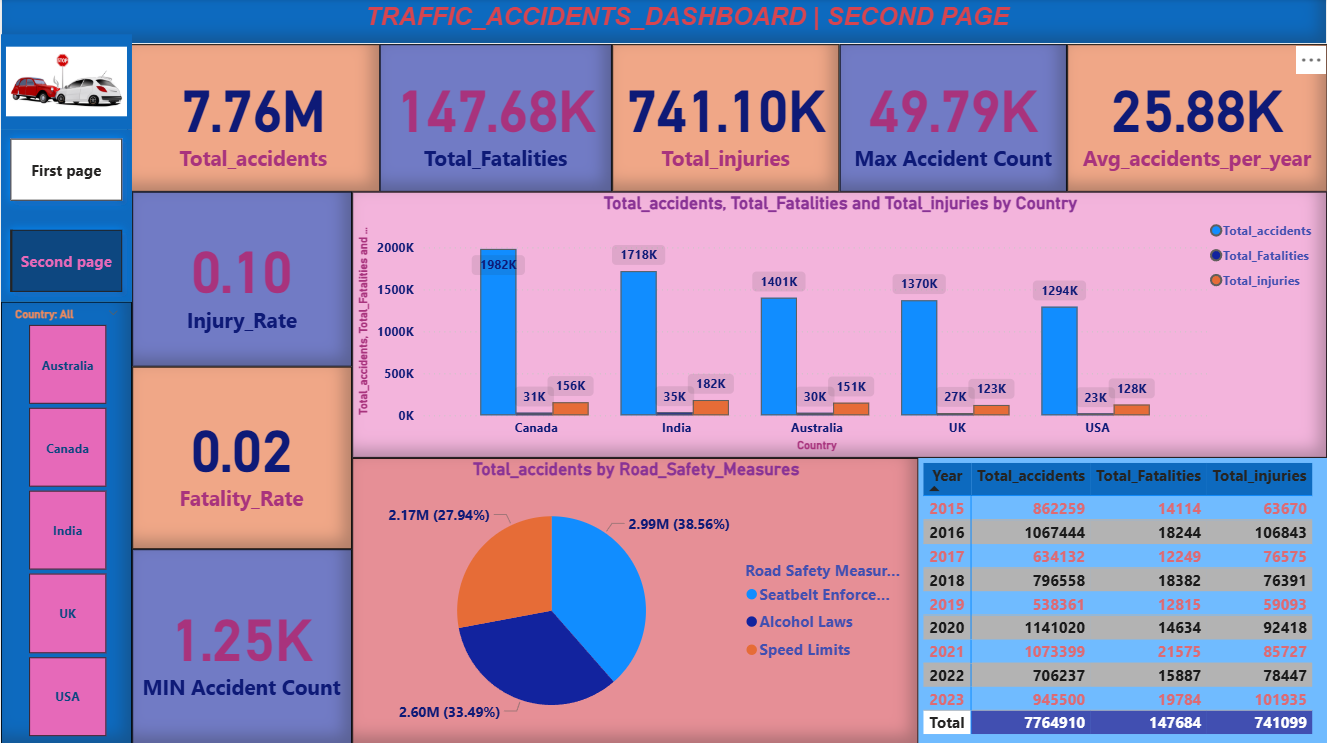

Layout of this report page (visuals, bound fields, positions):
{"tool":"powerbi","page":{"name":"Second page","canvas":[1280,720],"ordinal":1},"visuals":[{"type":"card","fields":{"Values":["traffic_accidents.Total_accidents"]},"box":[121.9,44.6,243.7,142.4],"z":0},{"type":"card","fields":{"Values":["traffic_accidents.Total_Fatalities"]},"box":[365.6,44.6,224.4,142.4],"z":1000},{"type":"card","fields":{"Values":["traffic_accidents.Total_injuries"]},"box":[589.9,44.6,219.6,142.4],"z":2000},{"type":"card","fields":{"Values":["traffic_accidents.Injury_Rate"]},"box":[126.7,187,212.3,168.9],"z":3000},{"type":"card","fields":{"Values":["traffic_accidents.Fatality_Rate"]},"box":[126.8,355.8,211.7,176],"z":4000},{"type":"card","fields":{"Values":["traffic_accidents.Avg_accidents_per_year"]},"box":[1029.1,44.6,250.9,142.4],"z":5000},{"type":"card","fields":{"Values":["traffic_accidents.Max Accident Count"]},"box":[809.5,44.6,219.6,142.4],"z":6000},{"type":"card","fields":{"Values":["traffic_accidents.MIN Accident Count"]},"box":[126.8,531.8,211.7,188.3],"z":7000},{"type":"textbox","box":[0,0,1280.3,44.3],"z":8000},{"type":"clusteredColumnChart","fields":{"Category":["traffic_accidents.Country"],"Y":["traffic_accidents.Total_accidents","traffic_accidents.Total_Fatalities","traffic_accidents.Total_injuries"]},"box":[339,187,941,257],"z":9000},{"type":"pieChart","title":"Total_accidents by Road_Safety_Measures","fields":{"Category":["traffic_accidents.Road Safety Measures"],"Y":["traffic_accidents.Total_accidents"]},"box":[339,444,546.5,276.3],"z":10000},{"type":"pivotTable","fields":{"Rows":["traffic_accidents.Year"],"Values":["traffic_accidents.Total_accidents","traffic_accidents.Total_Fatalities","traffic_accidents.Total_injuries"]},"box":[885.5,444,394.5,276.3],"z":11000},{"type":"slicer","fields":{"Values":["traffic_accidents.Country"]},"box":[0,293.2,126.7,427.1],"z":12000},{"type":"pageNavigator","box":[0,126.7,126.7,166.5],"z":13000},{"type":"image","box":[0,35,126.7,91.7],"z":14000}]}

Visuals, with their boxes on the page's 1280x720 design canvas (x1, y1, x2, y2). These are canvas units, not pixel positions in the 1327x743 screenshot, which may show the page scaled, cropped or inside an application window:
card - traffic_accidents.Total_accidents: region(122, 45, 366, 187)
card - traffic_accidents.Total_Fatalities: region(366, 45, 590, 187)
card - traffic_accidents.Total_injuries: region(590, 45, 810, 187)
card - traffic_accidents.Injury_Rate: region(127, 187, 339, 356)
card - traffic_accidents.Fatality_Rate: region(127, 356, 338, 532)
card - traffic_accidents.Avg_accidents_per_year: region(1029, 45, 1280, 187)
card - traffic_accidents.Max Accident Count: region(810, 45, 1029, 187)
card - traffic_accidents.MIN Accident Count: region(127, 532, 338, 720)
textbox: region(0, 0, 1280, 44)
clusteredColumnChart - traffic_accidents.Country x traffic_accidents.Total_accidents: region(339, 187, 1280, 444)
"Total_accidents by Road_Safety_Measures" pieChart: region(339, 444, 886, 720)
pivotTable - traffic_accidents.Year x traffic_accidents.Total_accidents: region(886, 444, 1280, 720)
slicer - traffic_accidents.Country: region(0, 293, 127, 720)
pageNavigator: region(0, 127, 127, 293)
image: region(0, 35, 127, 127)
